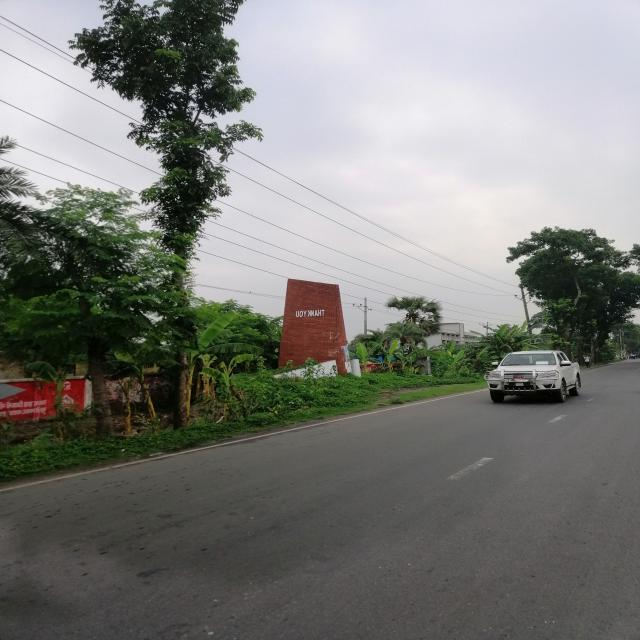Car: (471, 339, 613, 417)
